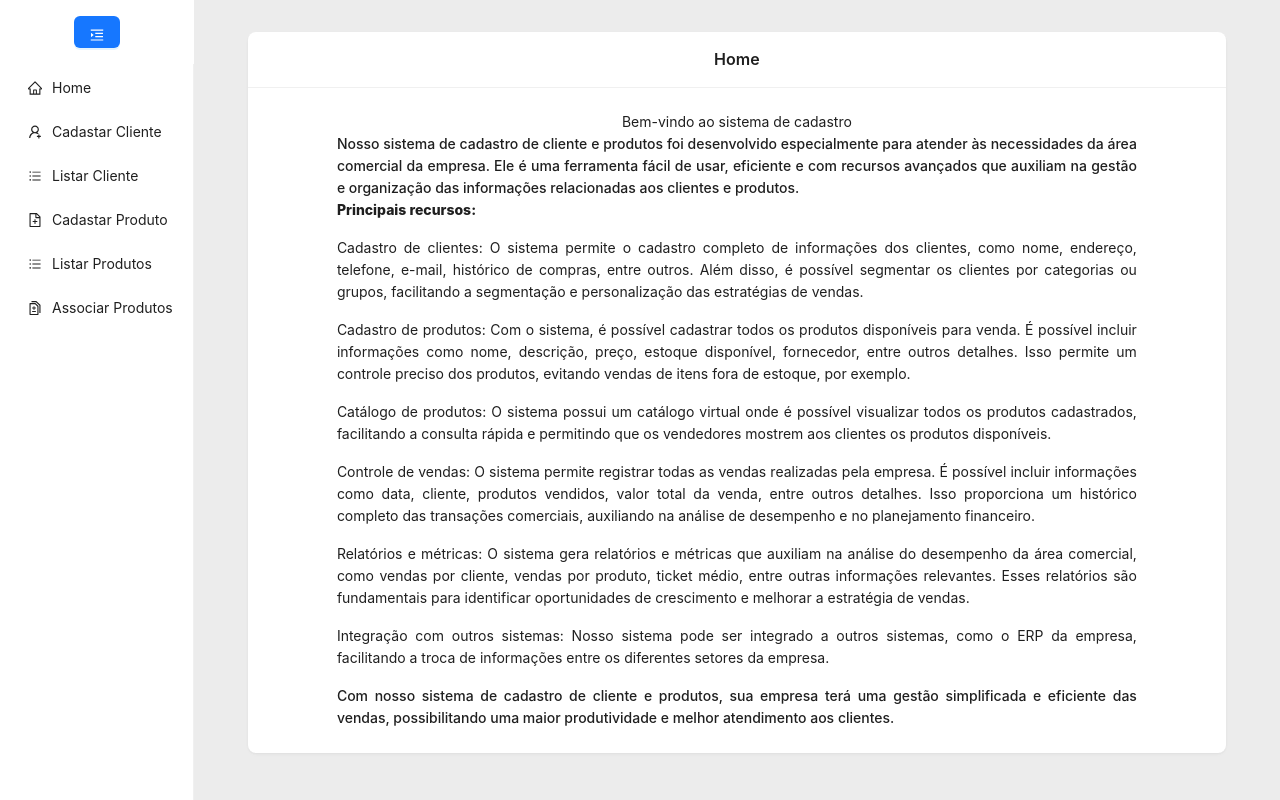
Testing the product registry page › Checking if it is possible to cancel the creation of a product
The image size is (1280, 800).
Click the menu item "Cadastar Produto" at (98, 220), box [28,211,168,228]
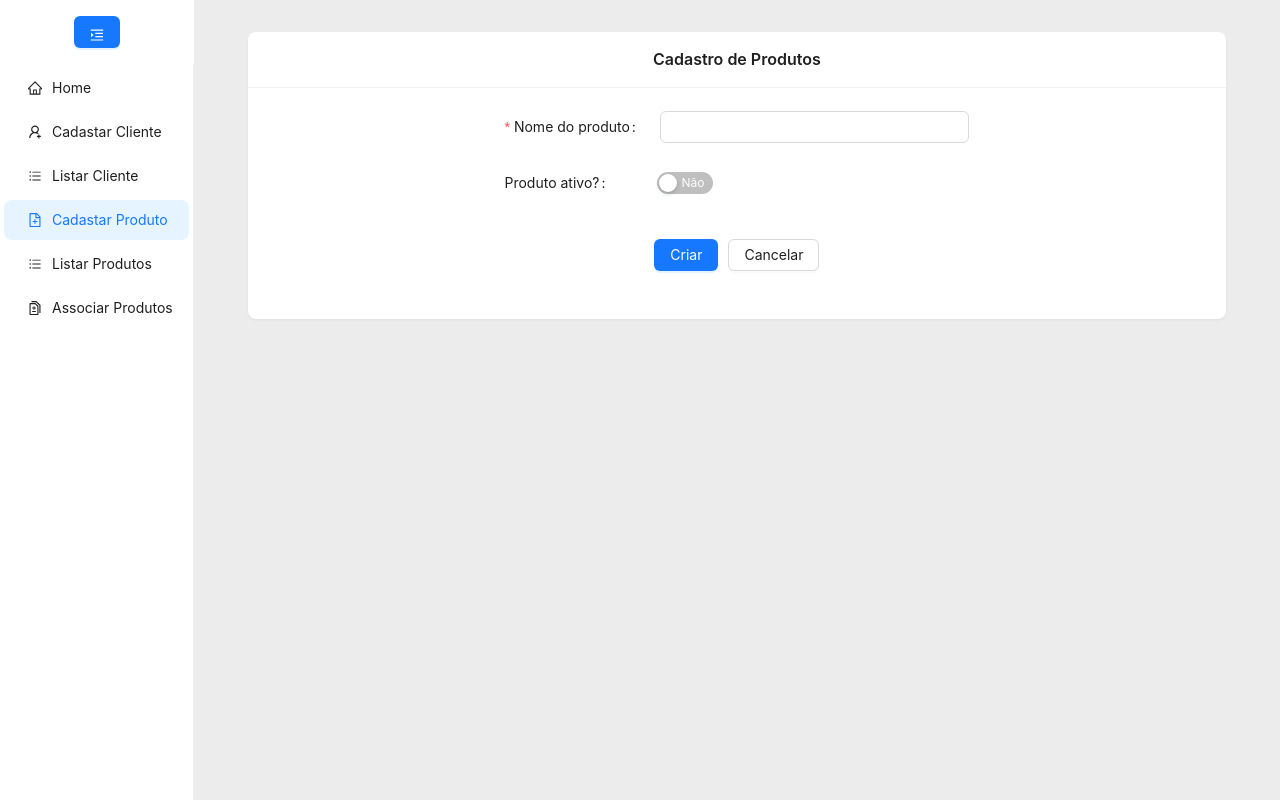
expect the text "Cadastro de Produtos" is shown: met, box [653,49,821,69]
Type "Novo Produto" into the element with test id "form-name" at (738, 127), box [505,111,970,143]
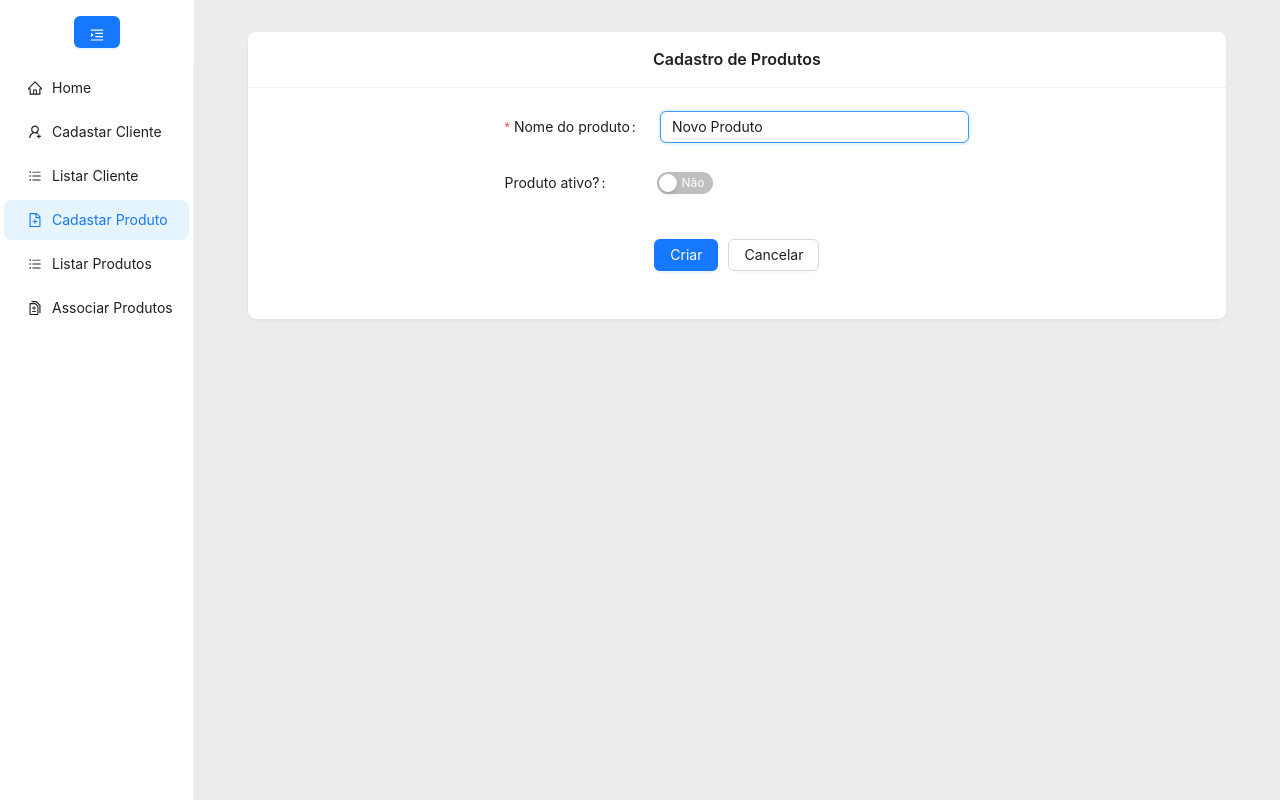
Click the switch with test id "form-active" at (686, 183), box [658,172,714,194]
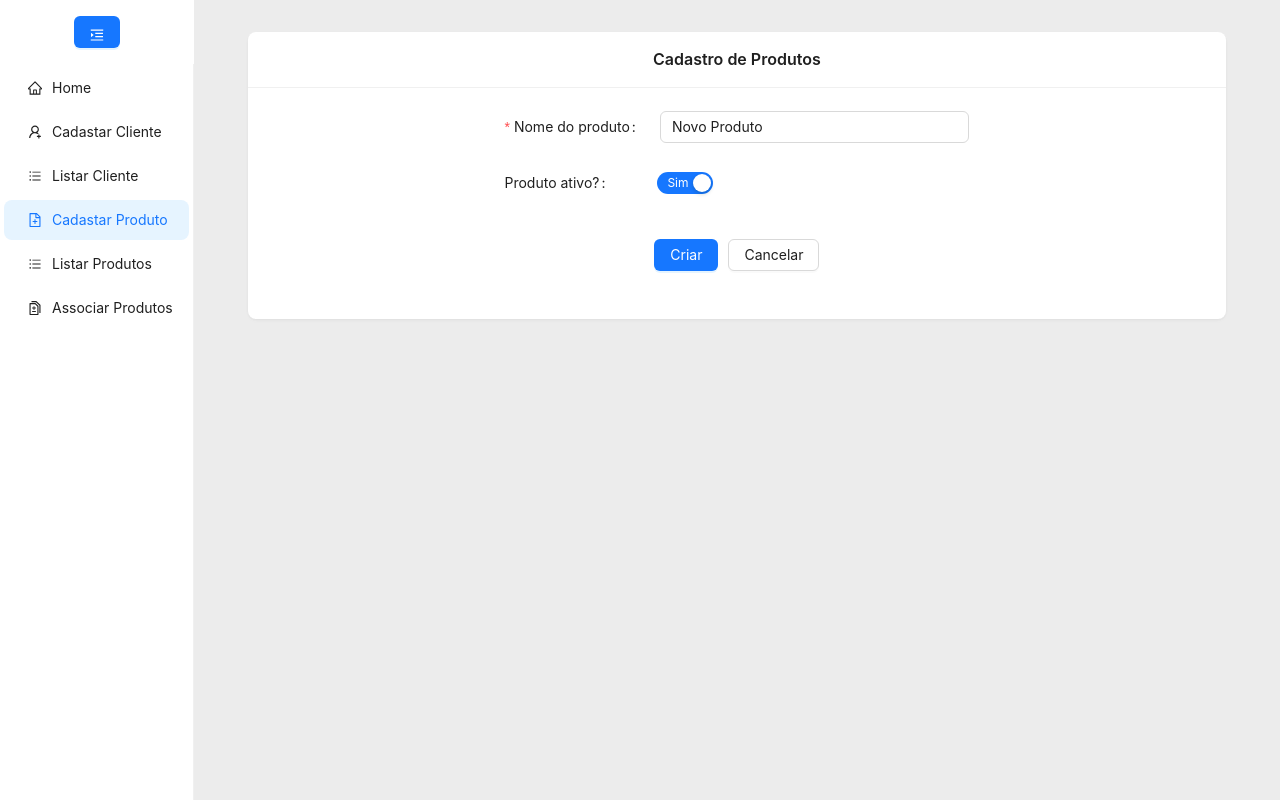
Click the button with test id "btn-product-cancel" at (774, 255), box [728,239,819,271]
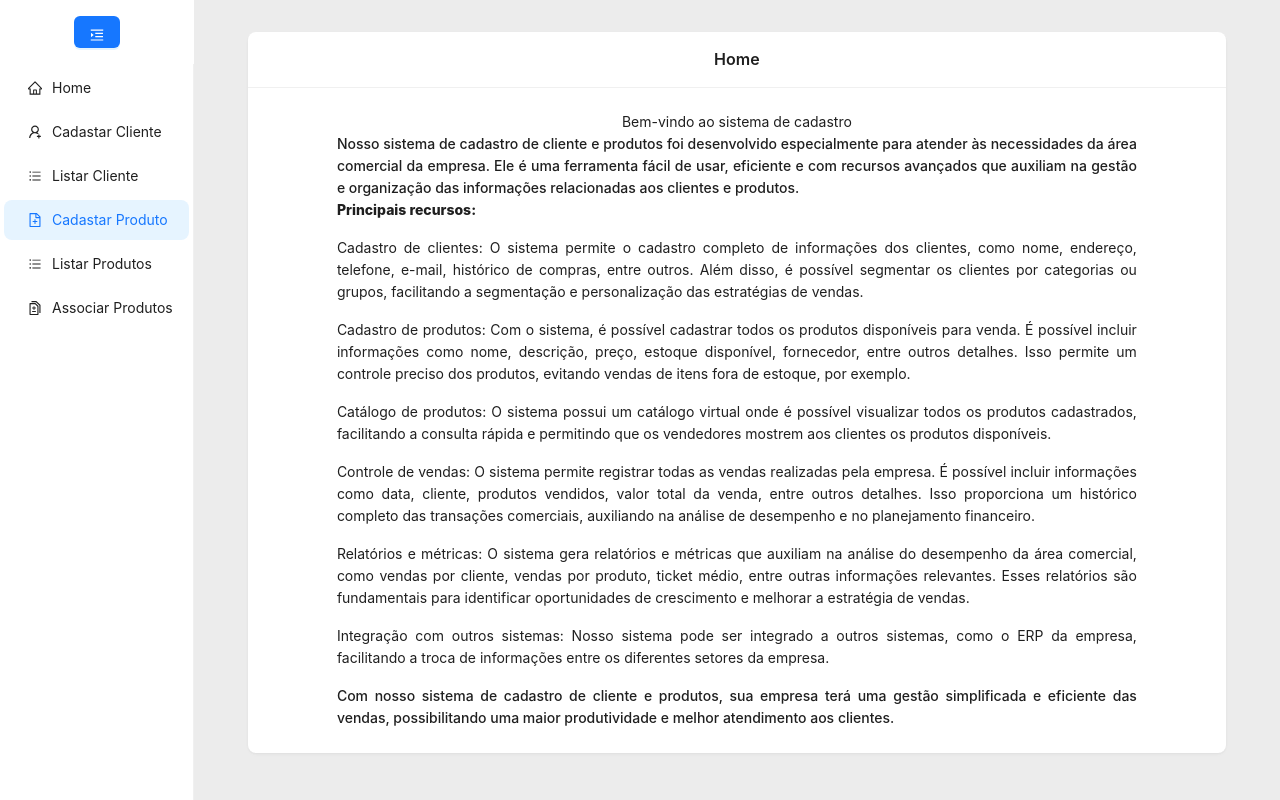
expect the heading "Bem-vindo ao sistema de cadastro" is shown: met, box [622,113,852,130]
